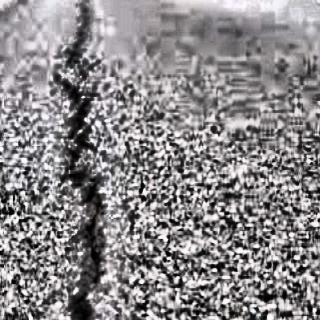crack: (50, 0, 112, 320)
